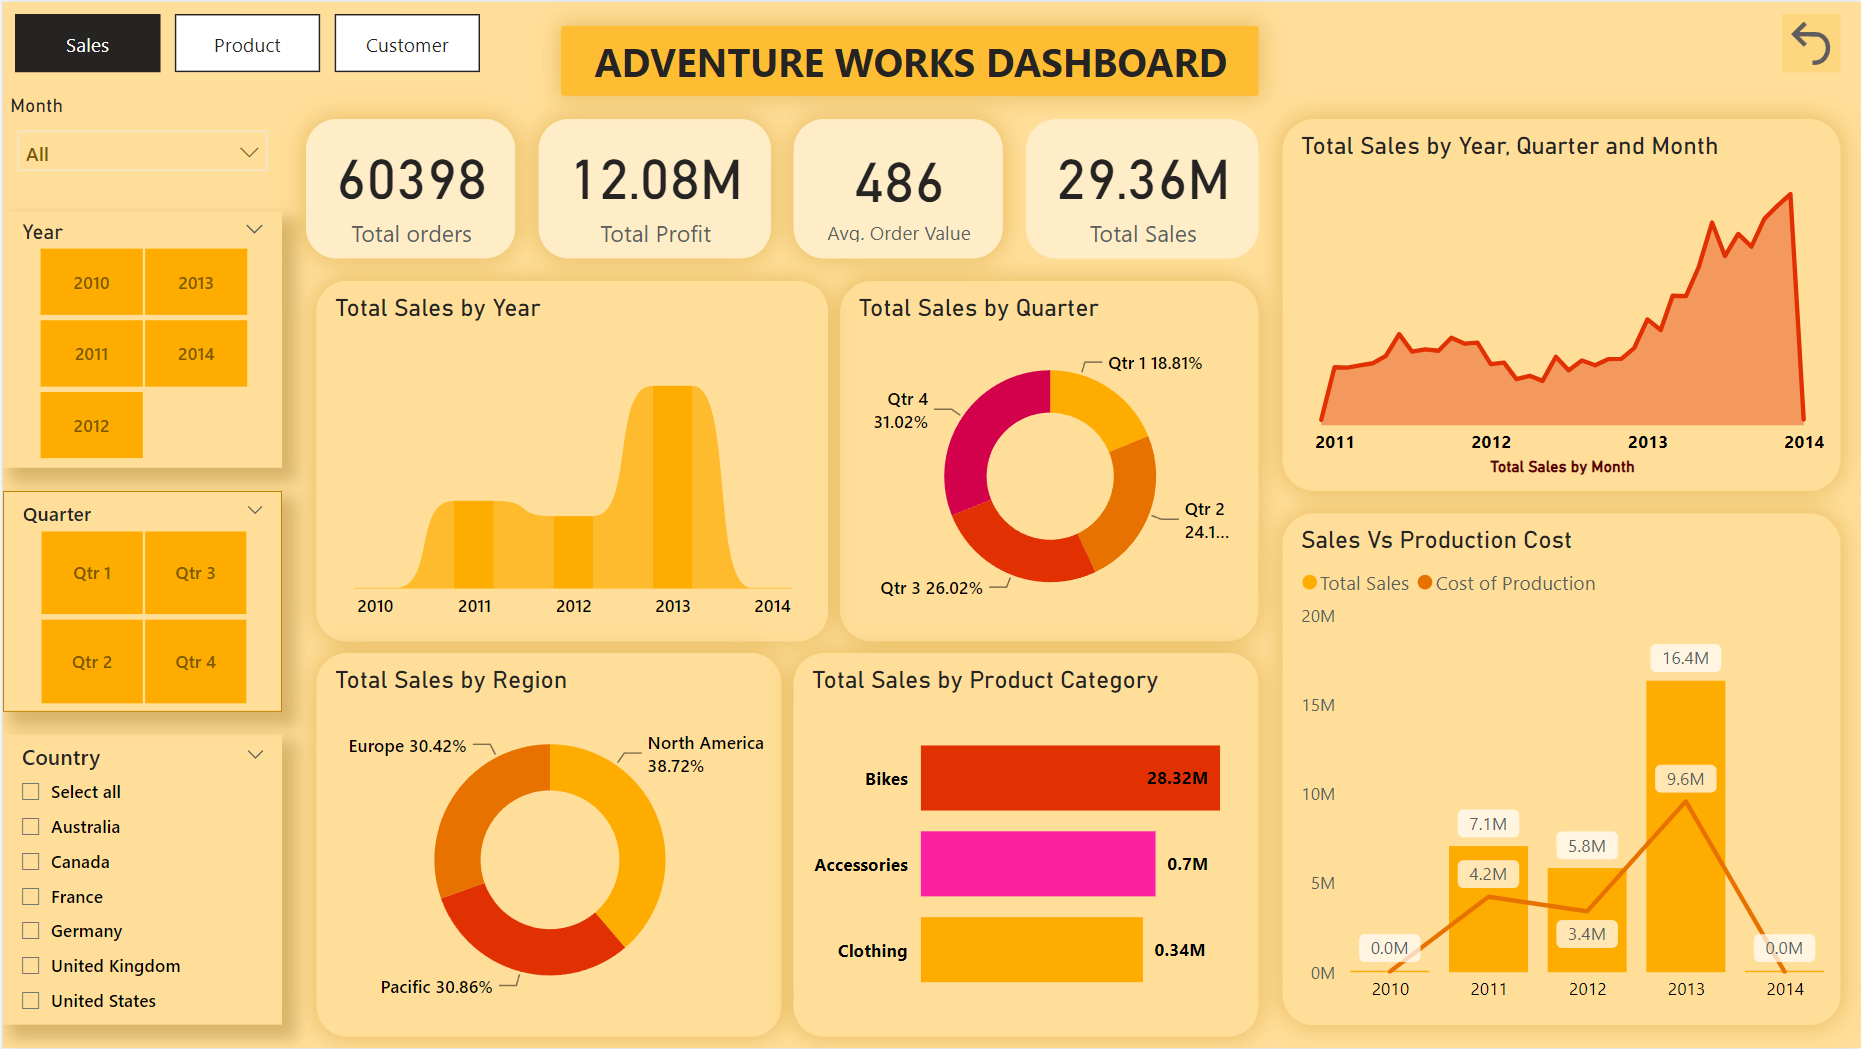

The dashboard page shown, as its layout file describes it:
{"tool":"powerbi","page":{"name":"Sales ","canvas":[1280,720],"ordinal":0},"visuals":[{"type":"areaChart","fields":{"Y":["Table.Total Sales"],"Category":["Sales Table.OrderDate.Variation.Date Hierarchy.Year","Sales Table.OrderDate.Variation.Date Hierarchy.Quarter","Sales Table.OrderDate.Variation.Date Hierarchy.Month"]},"box":[880,80,384,256],"z":0},{"type":"slicer","fields":{"Values":["DimSalesTerritory.SalesTerritoryCountry"]},"box":[1600,304,176,240],"z":1000},{"type":"pageNavigator","box":[8,8,320,40],"z":2000},{"type":"slicer","fields":{"Values":["Sales Table.OrderDate.Variation.Date Hierarchy.Year"]},"box":[0,144,192,176],"z":3000},{"type":"slicer","fields":{"Values":["DimSalesTerritory.SalesTerritoryCountry"]},"box":[0,504,192,200],"z":4000},{"type":"slicer","title":"Month","fields":{"Values":["Sales Table.OrderDate.Variation.Date Hierarchy.Month"]},"box":[0,64,192,64],"z":5000},{"type":"slicer","fields":{"Values":["Sales Table.OrderDate.Variation.Date Hierarchy.Quarter"]},"box":[0,336,192,152],"z":6000},{"type":"card","fields":{"Values":["Table.Total orders"]},"box":[208,80,144,96],"z":7000},{"type":"card","fields":{"Values":["Table.Total Profit"]},"box":[368,80,160,96],"z":8000},{"type":"donutChart","fields":{"Category":["Sales Table.OrderDate.Variation.Date Hierarchy.Quarter"],"Y":["Table.Total Sales"]},"box":[576,192,288,248],"z":9000},{"type":"card","fields":{"Values":["Table.AOV"]},"box":[544,80,144,96],"z":10000},{"type":"ribbonChart","fields":{"Category":["Sales Table.OrderDate.Variation.Date Hierarchy.Year"],"Y":["Table.Total Sales"]},"box":[216,192,352,248],"z":11000},{"type":"donutChart","title":"Total Sales by Region","fields":{"Y":["Table.Total Sales"],"Category":["DimSalesTerritory.SalesTerritoryGroup"]},"box":[216,448,320,264],"z":12000},{"type":"barChart","fields":{"Category":["DimProdCategory.Product Category"],"Y":["Table.Total Sales"]},"box":[544,448,320,264],"z":13000},{"type":"lineStackedColumnComboChart","title":"Sales Vs Production Cost","fields":{"Category":["Sales Table.OrderDate.Variation.Date Hierarchy.Year","Sales Table.OrderDate.Variation.Date Hierarchy.Month"],"Y":["Table.Total Sales"],"Y2":["Table.Cost of Production"]},"box":[880,352,384,352],"z":14000},{"type":"card","fields":{"Values":["Table.Total Sales"]},"box":[704,80,160,96],"z":15000},{"type":"textbox","box":[384,16,480,48],"z":16000},{"type":"actionButton","box":[1224,8,40,40],"z":17000}]}

Visuals, with their boxes in screenshot pixels (x1, y1, x2, y2), scaled from the page's 1280x720 canvas onto the 1861x1049 screenshot:
areaChart - Table.Total Sales x Sales Table.OrderDate.Variation.Date Hierarchy.Year: 1279,117,1838,490
pageNavigator: 12,12,477,70
slicer - Sales Table.OrderDate.Variation.Date Hierarchy.Year: 0,210,279,466
slicer - DimSalesTerritory.SalesTerritoryCountry: 0,734,279,1026
"Month" slicer: 0,93,279,186
slicer - Sales Table.OrderDate.Variation.Date Hierarchy.Quarter: 0,490,279,711
card - Table.Total orders: 302,117,512,256
card - Table.Total Profit: 535,117,768,256
donutChart - Sales Table.OrderDate.Variation.Date Hierarchy.Quarter x Table.Total Sales: 837,280,1256,641
card - Table.AOV: 791,117,1000,256
ribbonChart - Sales Table.OrderDate.Variation.Date Hierarchy.Year x Table.Total Sales: 314,280,826,641
"Total Sales by Region" donutChart: 314,653,779,1037
barChart - DimProdCategory.Product Category x Table.Total Sales: 791,653,1256,1037
"Sales Vs Production Cost" lineStackedColumnComboChart: 1279,513,1838,1026
card - Table.Total Sales: 1024,117,1256,256
textbox: 558,23,1256,93
actionButton: 1780,12,1838,70
